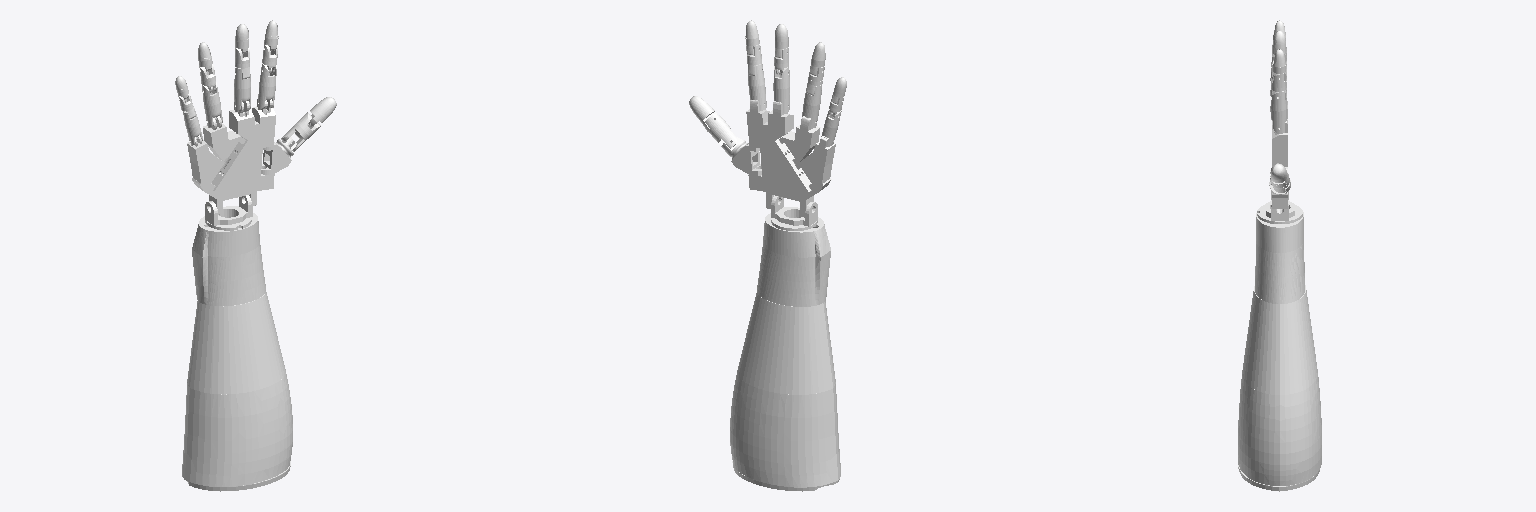
--- Facts derived from the render (not from the file) ---
The picture shows the robot from 3 angles, left to right: view 1: azimuth 30°, elevation 25°; view 2: azimuth 150°, elevation 25°; view 3: azimuth 270°, elevation 25°; orthographic projection.
Robot: hand_urdf — 21 links, 20 joints (19 revolute, 1 fixed); root link world; default pose: every joint at zero.
Links seen in each view (by area): view 1: base_link, link_2, link_1, link_4, link_5, link_3, link_7, link_13, link_8, link_6; view 2: base_link, link_2, link_1, link_4, link_5, link_3, link_8, link_6, link_7, link_13; view 3: base_link, link_2, link_1, link_7.
Boxes of the visible links, x1=… form: base_link: x1=182, y1=213, x2=292, y2=491; link_2: x1=192, y1=99, x2=275, y2=214; link_1: x1=205, y1=195, x2=252, y2=230; link_4: x1=187, y1=135, x2=226, y2=190; link_5: x1=203, y1=116, x2=245, y2=163; link_3: x1=261, y1=137, x2=296, y2=174; link_7: x1=258, y1=63, x2=276, y2=109; link_13: x1=202, y1=82, x2=222, y2=127; link_8: x1=281, y1=112, x2=320, y2=151; link_6: x1=234, y1=67, x2=250, y2=111; base_link: x1=730, y1=213, x2=840, y2=491; link_2: x1=746, y1=100, x2=831, y2=217; link_1: x1=771, y1=195, x2=817, y2=230; link_4: x1=795, y1=136, x2=835, y2=190; link_5: x1=779, y1=116, x2=820, y2=164; link_3: x1=721, y1=137, x2=761, y2=175; link_8: x1=705, y1=114, x2=736, y2=148; link_6: x1=773, y1=66, x2=789, y2=112; link_7: x1=748, y1=64, x2=766, y2=110; link_13: x1=801, y1=83, x2=821, y2=128; base_link: x1=1238, y1=204, x2=1321, y2=491; link_2: x1=1272, y1=105, x2=1287, y2=215; link_1: x1=1257, y1=190, x2=1302, y2=223; link_7: x1=1270, y1=91, x2=1286, y2=133.
Bounding box of the posed robot: 0.1832 × 0.0865 × 0.4951 m (x, y, z).
20 mesh visuals loaded from 20 distinct referenced files (20 binary STL).

The robot description file, URDF, robot "hand_urdf":
<?xml version="1.0" encoding="utf-8" ?>
<!-- This URDF was automatically created by SolidWorks to URDF Exporter! Originally created by Stephen Brawner ([email redacted]) 
     Commit Version: 1.6.0-4-g7f85cfe  Build Version: 1.6.7995.38578
     For more information, please see http://wiki.ros.org/sw_urdf_exporter -->
<robot name="hand_urdf">
    <link name="world" />
    <joint name="base_joint" type="fixed">
        <parent link="world" />
        <child link="base_link" />
        <origin rpy="0 0 0" xyz="0.0 0.0 0.17" />
    </joint>
    <link name="base_link">
        <inertial>
            <origin xyz="-9.57E-05 0.00036971 0.081542" rpy="0 0 0" />
            <mass value="0.42135" />
            <inertia ixx="0.00056075" ixy="-1.247E-06" ixz="2.5154E-06" iyy="0.00080543" iyz="-7.8447E-08" izz="0.00081249" />
        </inertial>
        <visual>
            <origin xyz="0 0 0" rpy="0 0 0" />
            <geometry>
                <mesh filename="package://hand_urdf/meshes/base_link.STL" />
            </geometry>
            <material name="">
                <color rgba="1 1 1 1" />
            </material>
        </visual>
        <collision>
            <origin xyz="0 0 0" rpy="0 0 0" />
            <geometry>
                <mesh filename="package://hand_urdf/meshes/base_link.STL" />
            </geometry>
        </collision>
    </link>
    <link name="link_1">
        <inertial>
            <origin xyz="-0.00018823 -7.0778E-05 0.006205" rpy="0 0 0" />
            <mass value="0.01051" />
            <inertia ixx="1.3884E-06" ixy="-9.6777E-09" ixz="1.1461E-08" iyy="2.7578E-06" iyz="-7.3181E-09" izz="3.4267E-06" />
        </inertial>
        <visual>
            <origin xyz="0 0 0" rpy="0 0 0" />
            <geometry>
                <mesh filename="package://hand_urdf/meshes/link_1.STL" />
            </geometry>
            <material name="">
                <color rgba="1 1 1 1" />
            </material>
        </visual>
        <collision>
            <origin xyz="0 0 0" rpy="0 0 0" />
            <geometry>
                <mesh filename="package://hand_urdf/meshes/link_1.STL" />
            </geometry>
        </collision>
    </link>
    <joint name="joint_1" type="revolute">
        <origin xyz="-0.0092782 0.0004297 0.2804" rpy="0 0 3.1416" />
        <parent link="base_link" />
        <child link="link_1" />
        <axis xyz="0 0 1" />
        <limit lower="0" upper="6.28" effort="1.47" velocity="1" />
    </joint>
    <link name="link_2">
        <inertial>
            <origin xyz="0.047956 -0.00011481 0.012072" rpy="0 0 0" />
            <mass value="0.065188" />
            <inertia ixx="2.4387E-05" ixy="3.1859E-07" ixz="-1.5646E-05" iyy="7.9044E-05" iyz="6.6163E-08" izz="5.796E-05" />
        </inertial>
        <visual>
            <origin xyz="0 0 0" rpy="0 0 0" />
            <geometry>
                <mesh filename="package://hand_urdf/meshes/link_2.STL" />
            </geometry>
            <material name="">
                <color rgba="1 1 1 1" />
            </material>
        </visual>
        <collision>
            <origin xyz="0 0 0" rpy="0 0 0" />
            <geometry>
                <mesh filename="package://hand_urdf/meshes/link_2.STL" />
            </geometry>
        </collision>
    </link>
    <joint name="joint_2" type="revolute">
        <origin xyz="-0.0057655 -2.3696E-05 0.018503" rpy="0 -1.5708 0" />
        <parent link="link_1" />
        <child link="link_2" />
        <axis xyz="0 0 1" />
        <limit lower="-3.14" upper="3.14" effort="0.588" velocity="1" />
    </joint>
    <link name="link_3">
        <inertial>
            <origin xyz="-0.015159 -0.00030686 0.012579" rpy="0 0 0" />
            <mass value="0.010696" />
            <inertia ixx="1.0275E-06" ixy="-5.1813E-09" ixz="-9.0665E-08" iyy="1.1917E-06" iyz="7.2066E-09" izz="7.7781E-07" />
        </inertial>
        <visual>
            <origin xyz="0 0 0" rpy="0 0 0" />
            <geometry>
                <mesh filename="package://hand_urdf/meshes/link_3.STL" />
            </geometry>
            <material name="">
                <color rgba="1 1 1 1" />
            </material>
        </visual>
        <collision>
            <origin xyz="0 0 0" rpy="0 0 0" />
            <geometry>
                <mesh filename="package://hand_urdf/meshes/link_3.STL" />
            </geometry>
        </collision>
    </link>
    <joint name="joint_3" type="revolute">
        <origin xyz="0.031337 0 0.034751" rpy="0 1.4877 0" />
        <parent link="link_2" />
        <child link="link_3" />
        <axis xyz="0 0 -1" />
        <limit lower="0" upper="1.57" effort="0.588" velocity="1" />
    </joint>
    <link name="link_8">
        <inertial>
            <origin xyz="-0.015023 0.0090258 0.005" rpy="0 0 0" />
            <mass value="0.0058999" />
            <inertia ixx="3.5157E-07" ixy="1.7362E-08" ixz="-4.4956E-14" iyy="3.7039E-07" iyz="-5.2708E-13" izz="2.9572E-07" />
        </inertial>
        <visual>
            <origin xyz="0 0 0" rpy="0 0 0" />
            <geometry>
                <mesh filename="package://hand_urdf/meshes/link_8.STL" />
            </geometry>
            <material name="">
                <color rgba="1 1 1 1" />
            </material>
        </visual>
        <collision>
            <origin xyz="0 0 0" rpy="0 0 0" />
            <geometry>
                <mesh filename="package://hand_urdf/meshes/link_8.STL" />
            </geometry>
        </collision>
    </link>
    <joint name="joint_8" type="revolute">
        <origin xyz="-0.034598 -0.0015598 0.018449" rpy="0.63363 0.56445 0.32635" />
        <parent link="link_3" />
        <child link="link_8" />
        <axis xyz="0 0 -1" />
        <limit lower="0" upper="1.57" effort="0.588" velocity="1" />
    </joint>
    <link name="link_9">
        <inertial>
            <origin xyz="-0.012918 -0.0050672 -0.0032528" rpy="0 0 0" />
            <mass value="0.0043152" />
            <inertia ixx="1.9054E-07" ixy="-1.5389E-08" ixz="4.1698E-11" iyy="1.8634E-07" iyz="-5.2172E-11" izz="2.1466E-07" />
        </inertial>
        <visual>
            <origin xyz="0 0 0" rpy="0 0 0" />
            <geometry>
                <mesh filename="package://hand_urdf/meshes/link_9.STL" />
            </geometry>
            <material name="">
                <color rgba="1 1 1 1" />
            </material>
        </visual>
        <collision>
            <origin xyz="0 0 0" rpy="0 0 0" />
            <geometry>
                <mesh filename="package://hand_urdf/meshes/link_9.STL" />
            </geometry>
        </collision>
    </link>
    <joint name="joint_9" type="revolute">
        <origin xyz="-0.025274 0.012384 0.00175" rpy="-3.1416 0 0" />
        <parent link="link_8" />
        <child link="link_9" />
        <axis xyz="0 0 -1" />
        <limit lower="0" upper="1.57" effort="0.588" velocity="1" />
    </joint>
    <link name="link_4">
        <inertial>
            <origin xyz="0.019365 0.0001012 -0.014335" rpy="0 0 0" />
            <mass value="0.017142" />
            <inertia ixx="1.9362E-06" ixy="-3.2751E-08" ixz="1.0482E-06" iyy="3.9678E-06" iyz="2.765E-08" izz="2.8681E-06" />
        </inertial>
        <visual>
            <origin xyz="0 0 0" rpy="0 0 0" />
            <geometry>
                <mesh filename="package://hand_urdf/meshes/link_4.STL" />
            </geometry>
            <material name="">
                <color rgba="1 1 1 1" />
            </material>
        </visual>
        <collision>
            <origin xyz="0 0 0" rpy="0 0 0" />
            <geometry>
                <mesh filename="package://hand_urdf/meshes/link_4.STL" />
            </geometry>
        </collision>
    </link>
    <joint name="joint_4" type="revolute">
        <origin xyz="0.030226 0 -0.028427" rpy="3.1416 0.88174 0" />
        <parent link="link_2" />
        <child link="link_4" />
        <axis xyz="0 0 -1" />
        <limit lower="0" upper="1.57" effort="0.588" velocity="1" />
    </joint>
    <link name="link_10">
        <inertial>
            <origin xyz="0.015019 -0.00071389 -0.00362" rpy="0 0 0" />
            <mass value="0.0027236" />
            <inertia ixx="8.9581E-08" ixy="2.492E-09" ixz="-4.5585E-13" iyy="1.3857E-07" iyz="2.4337E-13" izz="1.2053E-07" />
        </inertial>
        <visual>
            <origin xyz="0 0 0" rpy="0 0 0" />
            <geometry>
                <mesh filename="package://hand_urdf/meshes/link_10.STL" />
            </geometry>
            <material name="">
                <color rgba="1 1 1 1" />
            </material>
        </visual>
        <collision>
            <origin xyz="0 0 0" rpy="0 0 0" />
            <geometry>
                <mesh filename="package://hand_urdf/meshes/link_10.STL" />
            </geometry>
        </collision>
    </link>
    <joint name="joint_10" type="revolute">
        <origin xyz="0.047022 -0.0003 -0.027283" rpy="0 0.62762 0" />
        <parent link="link_4" />
        <child link="link_10" />
        <axis xyz="0 0 -1" />
        <limit lower="0" upper="1.57" effort="0.588" velocity="1" />
    </joint>
    <link name="link_11">
        <inertial>
            <origin xyz="0.0090515 -0.00077922 -0.0035425" rpy="0 0 0" />
            <mass value="0.0017535" />
            <inertia ixx="3.7917E-08" ixy="-4.194E-09" ixz="6.6578E-13" iyy="4.5701E-08" iyz="-2.5517E-13" izz="4.4716E-08" />
        </inertial>
        <visual>
            <origin xyz="0 0 0" rpy="0 0 0" />
            <geometry>
                <mesh filename="package://hand_urdf/meshes/link_11.STL" />
            </geometry>
            <material name="">
                <color rgba="1 1 1 1" />
            </material>
        </visual>
        <collision>
            <origin xyz="0 0 0" rpy="0 0 0" />
            <geometry>
                <mesh filename="package://hand_urdf/meshes/link_11.STL" />
            </geometry>
        </collision>
    </link>
    <joint name="joint_11" type="revolute">
        <origin xyz="0.030505 0.0010814 -7.7625E-05" rpy="0 0 0" />
        <parent link="link_10" />
        <child link="link_11" />
        <axis xyz="0 0 -1" />
        <limit lower="0" upper="1.57" effort="0.588" velocity="1" />
    </joint>
    <link name="link_12">
        <inertial>
            <origin xyz="0.009388 2.9411E-05 -0.0027088" rpy="0 0 0" />
            <mass value="0.0014242" />
            <inertia ixx="2.5902E-08" ixy="2.0689E-09" ixz="2.0586E-11" iyy="3.2645E-08" iyz="5.227E-12" izz="3.4057E-08" />
        </inertial>
        <visual>
            <origin xyz="0 0 0" rpy="0 0 0" />
            <geometry>
                <mesh filename="package://hand_urdf/meshes/link_12.STL" />
            </geometry>
            <material name="">
                <color rgba="1 1 1 1" />
            </material>
        </visual>
        <collision>
            <origin xyz="0 0 0" rpy="0 0 0" />
            <geometry>
                <mesh filename="package://hand_urdf/meshes/link_12.STL" />
            </geometry>
        </collision>
    </link>
    <joint name="joint_12" type="revolute">
        <origin xyz="0.019171 0.00041675 -0.0008335" rpy="0 0 0" />
        <parent link="link_11" />
        <child link="link_12" />
        <axis xyz="0 0 -1" />
        <limit lower="0" upper="1.57" effort="0.588" velocity="1" />
    </joint>
    <link name="link_5">
        <inertial>
            <origin xyz="0.018472 -9.7958E-05 0.011351" rpy="0 0 0" />
            <mass value="0.014141" />
            <inertia ixx="1.2964E-06" ixy="2.5174E-08" ixz="-5.0404E-07" iyy="2.733E-06" iyz="1.1489E-08" izz="2.126E-06" />
        </inertial>
        <visual>
            <origin xyz="0 0 0" rpy="0 0 0" />
            <geometry>
                <mesh filename="package://hand_urdf/meshes/link_5.STL" />
            </geometry>
            <material name="">
                <color rgba="1 1 1 1" />
            </material>
        </visual>
        <collision>
            <origin xyz="0 0 0" rpy="0 0 0" />
            <geometry>
                <mesh filename="package://hand_urdf/meshes/link_5.STL" />
            </geometry>
        </collision>
    </link>
    <joint name="joint_5" type="revolute">
        <origin xyz="0.053867 0 -0.0089519" rpy="0 0.88174 0" />
        <parent link="link_2" />
        <child link="link_5" />
        <axis xyz="0 0 -1" />
        <limit lower="0" upper="1.57" effort="0.588" velocity="1" />
    </joint>
    <link name="link_13">
        <inertial>
            <origin xyz="0.018066 -0.0007713 0.00445" rpy="0 0 0" />
            <mass value="0.0047138" />
            <inertia ixx="2.232E-07" ixy="1.8864E-09" ixz="7.1413E-13" iyy="3.4575E-07" iyz="2.2812E-13" izz="3.0084E-07" />
        </inertial>
        <visual>
            <origin xyz="0 0 0" rpy="0 0 0" />
            <geometry>
                <mesh filename="package://hand_urdf/meshes/link_13.STL" />
            </geometry>
            <material name="">
                <color rgba="1 1 1 1" />
            </material>
        </visual>
        <collision>
            <origin xyz="0 0 0" rpy="0 0 0" />
            <geometry>
                <mesh filename="package://hand_urdf/meshes/link_13.STL" />
            </geometry>
        </collision>
    </link>
    <joint name="joint_13" type="revolute">
        <origin xyz="0.035799 0.0003 0.028967" rpy="-3.1416 -0.72952 0" />
        <parent link="link_5" />
        <child link="link_13" />
        <axis xyz="0 0 -1" />
        <limit lower="0" upper="1.57" effort="0.588" velocity="1" />
    </joint>
    <link name="link_14">
        <inertial>
            <origin xyz="0.01086 -0.0011104 -0.0042502" rpy="0 0 0" />
            <mass value="0.0030282" />
            <inertia ixx="9.4254E-08" ixy="-6.5171E-09" ixz="2.924E-12" iyy="1.1359E-07" iyz="1.9937E-12" izz="1.1117E-07" />
        </inertial>
        <visual>
            <origin xyz="0 0 0" rpy="0 0 0" />
            <geometry>
                <mesh filename="package://hand_urdf/meshes/link_14.STL" />
            </geometry>
            <material name="">
                <color rgba="1 1 1 1" />
            </material>
        </visual>
        <collision>
            <origin xyz="0 0 0" rpy="0 0 0" />
            <geometry>
                <mesh filename="package://hand_urdf/meshes/link_14.STL" />
            </geometry>
        </collision>
    </link>
    <joint name="joint_14" type="revolute">
        <origin xyz="0.03575 -0.0014005 0.0002" rpy="-3.1416 0 0" />
        <parent link="link_13" />
        <child link="link_14" />
        <axis xyz="0 0 -1" />
        <limit lower="0" upper="1.57" effort="0.588" velocity="1" />
    </joint>
    <link name="link_15">
        <inertial>
            <origin xyz="0.011186 2.5987E-05 0.0032473" rpy="0 0 0" />
            <mass value="0.002406" />
            <inertia ixx="5.8143E-08" ixy="5.7172E-09" ixz="9.9215E-12" iyy="7.8049E-08" iyz="-1.9612E-11" izz="8.2228E-08" />
        </inertial>
        <visual>
            <origin xyz="0 0 0" rpy="0 0 0" />
            <geometry>
                <mesh filename="package://hand_urdf/meshes/link_15.STL" />
            </geometry>
            <material name="">
                <color rgba="1 1 1 1" />
            </material>
        </visual>
        <collision>
            <origin xyz="0 0 0" rpy="0 0 0" />
            <geometry>
                <mesh filename="package://hand_urdf/meshes/link_15.STL" />
            </geometry>
        </collision>
    </link>
    <joint name="joint_15" type="revolute">
        <origin xyz="0.023 -0.0015 -0.001" rpy="3.1416 0 0" />
        <parent link="link_14" />
        <child link="link_15" />
        <axis xyz="0 0 -1" />
        <limit lower="0" upper="1.57" effort="0.588" velocity="1" />
    </joint>
    <link name="link_6">
        <inertial>
            <origin xyz="0.018066 -0.00083955 0.00475" rpy="0 0 0" />
            <mass value="0.0047138" />
            <inertia ixx="2.232E-07" ixy="5.5705E-09" ixz="-1.1536E-12" iyy="3.4575E-07" iyz="3.9927E-13" izz="3.0084E-07" />
        </inertial>
        <visual>
            <origin xyz="0 0 0" rpy="0 0 0" />
            <geometry>
                <mesh filename="package://hand_urdf/meshes/link_6.STL" />
            </geometry>
            <material name="">
                <color rgba="1 1 1 1" />
            </material>
        </visual>
        <collision>
            <origin xyz="0 0 0" rpy="0 0 0" />
            <geometry>
                <mesh filename="package://hand_urdf/meshes/link_6.STL" />
            </geometry>
        </collision>
    </link>
    <joint name="joint_6" type="revolute">
        <origin xyz="0.10744 0.0005 0.01459" rpy="-3.1416 0 0" />
        <parent link="link_2" />
        <child link="link_6" />
        <axis xyz="0 0 -1" />
        <limit lower="0" upper="1.57" effort="0.588" velocity="1" />
    </joint>
    <link name="link_16">
        <inertial>
            <origin xyz="0.01086 -0.00093482 0.00425" rpy="0 0 0" />
            <mass value="0.0030282" />
            <inertia ixx="9.4254E-08" ixy="-1.0426E-08" ixz="-8.5678E-13" iyy="1.1359E-07" iyz="1.494E-12" izz="1.1117E-07" />
        </inertial>
        <visual>
            <origin xyz="0 0 0" rpy="0 0 0" />
            <geometry>
                <mesh filename="package://hand_urdf/meshes/link_16.STL" />
            </geometry>
            <material name="">
                <color rgba="1 1 1 1" />
            </material>
        </visual>
        <collision>
            <origin xyz="0 0 0" rpy="0 0 0" />
            <geometry>
                <mesh filename="package://hand_urdf/meshes/link_16.STL" />
            </geometry>
        </collision>
    </link>
    <joint name="joint_16" type="revolute">
        <origin xyz="0.03575 -0.00040054 0.0005" rpy="0 0 0" />
        <parent link="link_6" />
        <child link="link_16" />
        <axis xyz="0 0 -1" />
        <limit lower="0" upper="1.57" effort="0.588" velocity="1" />
    </joint>
    <link name="link_17">
        <inertial>
            <origin xyz="0.011263 3.5299E-05 0.0032501" rpy="0 0 0" />
            <mass value="0.0024596" />
            <inertia ixx="6.4387E-08" ixy="5.1428E-09" ixz="4.9409E-11" iyy="8.1148E-08" iyz="1.244E-11" izz="8.466E-08" />
        </inertial>
        <visual>
            <origin xyz="0 0 0" rpy="0 0 0" />
            <geometry>
                <mesh filename="package://hand_urdf/meshes/link_17.STL" />
            </geometry>
            <material name="">
                <color rgba="1 1 1 1" />
            </material>
        </visual>
        <collision>
            <origin xyz="0 0 0" rpy="0 0 0" />
            <geometry>
                <mesh filename="package://hand_urdf/meshes/link_17.STL" />
            </geometry>
        </collision>
    </link>
    <joint name="joint_17" type="revolute">
        <origin xyz="0.023 0.0005 0.001" rpy="0 0 0" />
        <parent link="link_16" />
        <child link="link_17" />
        <axis xyz="0 0 -1" />
        <limit lower="0" upper="1.57" effort="0.588" velocity="1" />
    </joint>
    <link name="link_7">
        <inertial>
            <origin xyz="-0.018066 0.0007713 0.00445" rpy="0 0 0" />
            <mass value="0.0047138" />
            <inertia ixx="2.232E-07" ixy="1.8864E-09" ixz="-6.4083E-13" iyy="3.4575E-07" iyz="-6.4918E-13" izz="3.0084E-07" />
        </inertial>
        <visual>
            <origin xyz="0 0 0" rpy="0 0 0" />
            <geometry>
                <mesh filename="package://hand_urdf/meshes/link_7.STL" />
            </geometry>
            <material name="">
                <color rgba="1 1 1 1" />
            </material>
        </visual>
        <collision>
            <origin xyz="0 0 0" rpy="0 0 0" />
            <geometry>
                <mesh filename="package://hand_urdf/meshes/link_7.STL" />
            </geometry>
        </collision>
    </link>
    <joint name="joint_7" type="revolute">
        <origin xyz="0.10262 0.0005 0.041386" rpy="-3.1416 0.096866 -3.1416" />
        <parent link="link_2" />
        <child link="link_7" />
        <axis xyz="0 0 -1" />
        <limit lower="0" upper="1.57" effort="0.588" velocity="1" />
    </joint>
    <link name="link_18">
        <inertial>
            <origin xyz="-0.01086 0.0011104 -0.0042499" rpy="0 0 0" />
            <mass value="0.0030282" />
            <inertia ixx="9.4254E-08" ixy="-6.5173E-09" ixz="-1.6641E-13" iyy="1.1359E-07" iyz="-1.1544E-12" izz="1.1117E-07" />
        </inertial>
        <visual>
            <origin xyz="0 0 0" rpy="0 0 0" />
            <geometry>
                <mesh filename="package://hand_urdf/meshes/link_18.STL" />
            </geometry>
            <material name="">
                <color rgba="1 1 1 1" />
            </material>
        </visual>
        <collision>
            <origin xyz="0 0 0" rpy="0 0 0" />
            <geometry>
                <mesh filename="package://hand_urdf/meshes/link_18.STL" />
            </geometry>
        </collision>
    </link>
    <joint name="joint_18" type="revolute">
        <origin xyz="-0.03575 0.0014005 0.0002" rpy="-3.1416 0 0" />
        <parent link="link_7" />
        <child link="link_18" />
        <axis xyz="0 0 -1" />
        <limit lower="0" upper="1.57" effort="0.588" velocity="1" />
    </joint>
    <link name="link_19">
        <inertial>
            <origin xyz="-0.011186 -2.5989E-05 0.0032473" rpy="0 0 0" />
            <mass value="0.002406" />
            <inertia ixx="5.8142E-08" ixy="5.7172E-09" ixz="-1.0045E-11" iyy="7.8049E-08" iyz="1.9621E-11" izz="8.2227E-08" />
        </inertial>
        <visual>
            <origin xyz="0 0 0" rpy="0 0 0" />
            <geometry>
                <mesh filename="package://hand_urdf/meshes/link_19.STL" />
            </geometry>
            <material name="">
                <color rgba="1 1 1 1" />
            </material>
        </visual>
        <collision>
            <origin xyz="0 0 0" rpy="0 0 0" />
            <geometry>
                <mesh filename="package://hand_urdf/meshes/link_19.STL" />
            </geometry>
        </collision>
    </link>
    <joint name="joint_19" type="revolute">
        <origin xyz="-0.023 0.0015 -0.001" rpy="3.1416 0 0" />
        <parent link="link_18" />
        <child link="link_19" />
        <axis xyz="0 0 -1" />
        <limit lower="0" upper="1.57" effort="0.588" velocity="1" />
    </joint>
    <transmission name="link_1_trans">
        <type>transmission_interface/SimpleTransmission</type>
        <joint name="joint_1">
            <hardwareInterface>hardware_interface/PositionJointInterface</hardwareInterface>
        </joint>
        <actuator name="link_1_motor">
            <hardwareInterface>hardware_interface/PositionJointInterface</hardwareInterface>
            <mechanicalReduction>1</mechanicalReduction>
        </actuator>
    </transmission>
    <transmission name="link_2_trans">
        <type>transmission_interface/SimpleTransmission</type>
        <joint name="joint_2">
            <hardwareInterface>hardware_interface/PositionJointInterface</hardwareInterface>
        </joint>
        <actuator name="link_2_motor">
            <hardwareInterface>hardware_interface/PositionJointInterface</hardwareInterface>
            <mechanicalReduction>1</mechanicalReduction>
        </actuator>
    </transmission>
    <transmission name="link_3_trans">
        <type>transmission_interface/SimpleTransmission</type>
        <joint name="joint_3">
            <hardwareInterface>hardware_interface/PositionJointInterface</hardwareInterface>
        </joint>
        <actuator name="link_3_motor">
            <hardwareInterface>hardware_interface/PositionJointInterface</hardwareInterface>
            <mechanicalReduction>1</mechanicalReduction>
        </actuator>
    </transmission>
    <transmission name="link_4_trans">
        <type>transmission_interface/SimpleTransmission</type>
        <joint name="joint_4">
            <hardwareInterface>hardware_interface/PositionJointInterface</hardwareInterface>
        </joint>
        <actuator name="link_4_motor">
            <hardwareInterface>hardware_interface/PositionJointInterface</hardwareInterface>
            <mechanicalReduction>1</mechanicalReduction>
        </actuator>
    </transmission>
    <transmission name="link_5_trans">
        <type>transmission_interface/SimpleTransmission</type>
        <joint name="joint_5">
            <hardwareInterface>hardware_interface/PositionJointInterface</hardwareInterface>
        </joint>
        <actuator name="link_5_motor">
            <hardwareInterface>hardware_interface/PositionJointInterface</hardwareInterface>
            <mechanicalReduction>1</mechanicalReduction>
        </actuator>
    </transmission>
    <transmission name="link_6_trans">
        <type>transmission_interface/SimpleTransmission</type>
        <joint name="joint_6">
            <hardwareInterface>hardware_interface/PositionJointInterface</hardwareInterface>
        </joint>
        <actuator name="link_6_motor">
            <hardwareInterface>hardware_interface/PositionJointInterface</hardwareInterface>
            <mechanicalReduction>1</mechanicalReduction>
        </actuator>
    </transmission>
    <transmission name="link_7_trans">
        <type>transmission_interface/SimpleTransmission</type>
        <joint name="joint_7">
            <hardwareInterface>hardware_interface/PositionJointInterface</hardwareInterface>
        </joint>
        <actuator name="link_7_motor">
            <hardwareInterface>hardware_interface/PositionJointInterface</hardwareInterface>
            <mechanicalReduction>1</mechanicalReduction>
        </actuator>
    </transmission>
    <transmission name="link_8_trans">
        <type>transmission_interface/SimpleTransmission</type>
        <joint name="joint_8">
            <hardwareInterface>hardware_interface/PositionJointInterface</hardwareInterface>
        </joint>
        <actuator name="link_8_motor">
            <hardwareInterface>hardware_interface/PositionJointInterface</hardwareInterface>
            <mechanicalReduction>1</mechanicalReduction>
        </actuator>
    </transmission>
    <transmission name="link_9_trans">
        <type>transmission_interface/SimpleTransmission</type>
        <joint name="joint_9">
            <hardwareInterface>hardware_interface/PositionJointInterface</hardwareInterface>
        </joint>
        <actuator name="link_9_motor">
            <hardwareInterface>hardware_interface/PositionJointInterface</hardwareInterface>
            <mechanicalReduction>1</mechanicalReduction>
        </actuator>
    </transmission>
    <transmission name="link_10_trans">
        <type>transmission_interface/SimpleTransmission</type>
        <joint name="joint_10">
            <hardwareInterface>hardware_interface/PositionJointInterface</hardwareInterface>
        </joint>
        <actuator name="link_10_motor">
            <hardwareInterface>hardware_interface/PositionJointInterface</hardwareInterface>
            <mechanicalReduction>1</mechanicalReduction>
        </actuator>
    </transmission>
    <transmission name="link_11_trans">
        <type>transmission_interface/SimpleTransmission</type>
        <joint name="joint_11">
            <hardwareInterface>hardware_interface/PositionJointInterface</hardwareInterface>
        </joint>
        <actuator name="link_11_motor">
            <hardwareInterface>hardware_interface/PositionJointInterface</hardwareInterface>
            <mechanicalReduction>1</mechanicalReduction>
        </actuator>
    </transmission>
    <transmission name="link_12_trans">
        <type>transmission_interface/SimpleTransmission</type>
        <joint name="joint_12">
            <hardwareInterface>hardware_interface/PositionJointInterface</hardwareInterface>
        </joint>
        <actuator name="link_12_motor">
            <hardwareInterface>hardware_interface/PositionJointInterface</hardwareInterface>
            <mechanicalReduction>1</mechanicalReduction>
        </actuator>
    </transmission>
    <transmission name="link_13_trans">
        <type>transmission_interface/SimpleTransmission</type>
        <joint name="joint_13">
            <hardwareInterface>hardware_interface/PositionJointInterface</hardwareInterface>
        </joint>
        <actuator name="link_13_motor">
            <hardwareInterface>hardware_interface/PositionJointInterface</hardwareInterface>
            <mechanicalReduction>1</mechanicalReduction>
        </actuator>
    </transmission>
    <transmission name="link_14_trans">
        <type>transmission_interface/SimpleTransmission</type>
        <joint name="joint_14">
            <hardwareInterface>hardware_interface/PositionJointInterface</hardwareInterface>
        </joint>
        <actuator name="link_14_motor">
            <hardwareInterface>hardware_interface/PositionJointInterface</hardwareInterface>
            <mechanicalReduction>1</mechanicalReduction>
        </actuator>
    </transmission>
    <transmission name="link_15_trans">
        <type>transmission_interface/SimpleTransmission</type>
        <joint name="joint_15">
            <hardwareInterface>hardware_interface/PositionJointInterface</hardwareInterface>
        </joint>
        <actuator name="link_15_motor">
            <hardwareInterface>hardware_interface/PositionJointInterface</hardwareInterface>
            <mechanicalReduction>1</mechanicalReduction>
        </actuator>
    </transmission>
    <transmission name="link_16_trans">
        <type>transmission_interface/SimpleTransmission</type>
        <joint name="joint_16">
            <hardwareInterface>hardware_interface/PositionJointInterface</hardwareInterface>
        </joint>
        <actuator name="link_16_motor">
            <hardwareInterface>hardware_interface/PositionJointInterface</hardwareInterface>
            <mechanicalReduction>1</mechanicalReduction>
        </actuator>
    </transmission>
    <transmission name="link_17_trans">
        <type>transmission_interface/SimpleTransmission</type>
        <joint name="joint_17">
            <hardwareInterface>hardware_interface/PositionJointInterface</hardwareInterface>
        </joint>
        <actuator name="link_17_motor">
            <hardwareInterface>hardware_interface/PositionJointInterface</hardwareInterface>
            <mechanicalReduction>1</mechanicalReduction>
        </actuator>
    </transmission>
    <transmission name="link_18_trans">
        <type>transmission_interface/SimpleTransmission</type>
        <joint name="joint_18">
            <hardwareInterface>hardware_interface/PositionJointInterface</hardwareInterface>
        </joint>
        <actuator name="link_18_motor">
            <hardwareInterface>hardware_interface/PositionJointInterface</hardwareInterface>
            <mechanicalReduction>1</mechanicalReduction>
        </actuator>
    </transmission>
    <transmission name="link_19_trans">
        <type>transmission_interface/SimpleTransmission</type>
        <joint name="joint_19">
            <hardwareInterface>hardware_interface/PositionJointInterface</hardwareInterface>
        </joint>
        <actuator name="link_19_motor">
            <hardwareInterface>hardware_interface/PositionJointInterface</hardwareInterface>
            <mechanicalReduction>1</mechanicalReduction>
        </actuator>
    </transmission>
    <gazebo>
        <plugin name="control" filename="libgazebo_ros_control.so">
            <robotNamespace>/</robotNamespace>
        </plugin>
        
    </gazebo>
    <gazebo reference="link_1">
        <selfCollide>true</selfCollide>
    </gazebo>
    <gazebo reference="link_2">
        <selfCollide>true</selfCollide>
    </gazebo>
    <gazebo reference="link_3">
        <selfCollide>true</selfCollide>
    </gazebo>
    <gazebo reference="link_4">
        <selfCollide>true</selfCollide>
    </gazebo>
    <gazebo reference="link_5">
        <selfCollide>true</selfCollide>
    </gazebo>
    <gazebo reference="link_6">
        <selfCollide>true</selfCollide>
    </gazebo>
    <gazebo reference="link_7">
        <selfCollide>true</selfCollide>
    </gazebo>
    <gazebo reference="link_8">
        <selfCollide>true</selfCollide>
    </gazebo>
    <gazebo reference="link_9">
        <selfCollide>true</selfCollide>
    </gazebo>
    <gazebo reference="link_10">
        <selfCollide>true</selfCollide>
    </gazebo>
    <gazebo reference="link_11">
        <selfCollide>true</selfCollide>
    </gazebo>
    <gazebo reference="link_12">
        <selfCollide>true</selfCollide>
    </gazebo>
    <gazebo reference="link_13">
        <selfCollide>true</selfCollide>
    </gazebo>
    <gazebo reference="link_14">
        <selfCollide>true</selfCollide>
    </gazebo>
    <gazebo reference="link_15">
        <selfCollide>true</selfCollide>
    </gazebo>
    <gazebo reference="link_16">
        <selfCollide>true</selfCollide>
    </gazebo>
    <gazebo reference="link_17">
        <selfCollide>true</selfCollide>
    </gazebo>
    <gazebo reference="link_18">
        <selfCollide>true</selfCollide>
    </gazebo>
    <gazebo reference="link_19">
        <selfCollide>true</selfCollide>
    </gazebo>
</robot>
